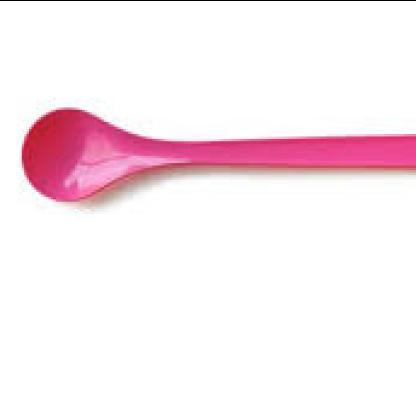Others: (18, 104, 414, 200)
